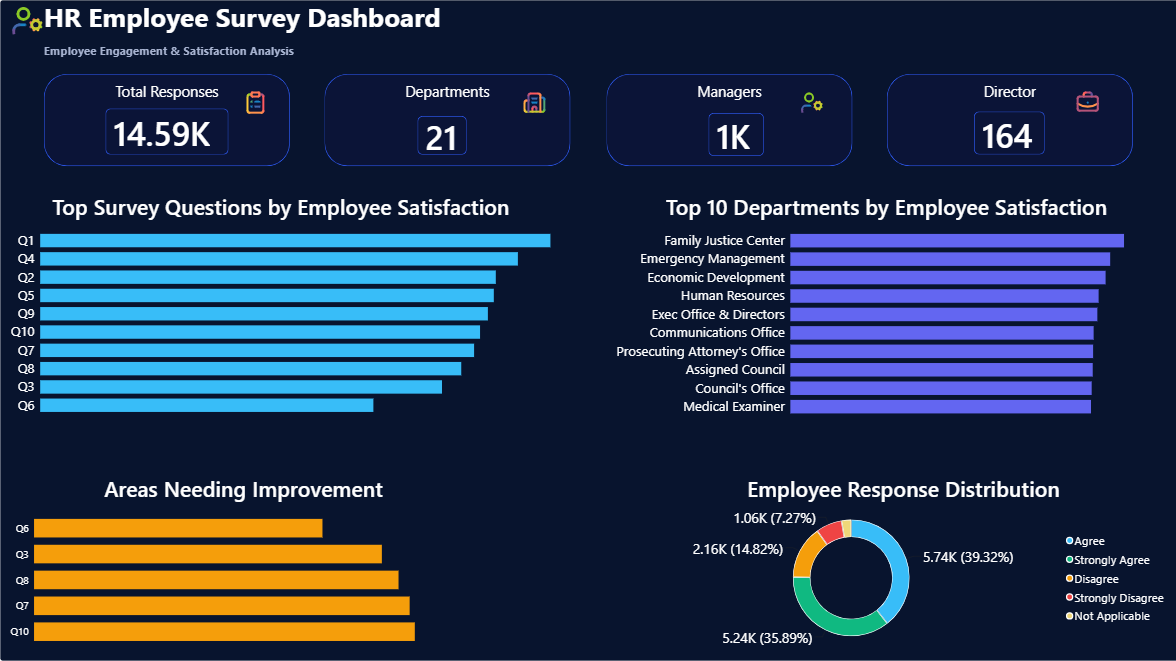

This screenshot's page, from the dashboard's own definition file:
{"tool":"powerbi","page":{"name":"Page 1","canvas":[1920,1080],"ordinal":0},"visuals":[{"type":"textbox","box":[72.5,0,650,142.5],"z":0},{"type":"textbox","box":[73.2,70.8,685.6,90.3],"z":1000},{"type":"shape","box":[73.2,122,400,150],"z":3000},{"type":"shape","title":"Departments","box":[530.3,122,400,150],"z":4000},{"type":"shape","title":"Managers","box":[987.3,122,400,150],"z":5000},{"type":"shape","box":[1444.4,122,400,150],"z":6000},{"type":"cardVisual","fields":{"Data":["CountNonNull(HR Survey Reponses.Response ID)"]},"box":[173.2,178.1,200,75],"z":7000},{"type":"image","box":[375.7,148.8,83,39],"z":8000},{"type":"cardVisual","fields":{"Data":["Count(HR Survey Reponses.Department)"]},"box":[680.7,190.3,80.5,63.4],"z":9000},{"type":"image","box":[830.4,148.8,83,39],"z":10000},{"type":"cardVisual","fields":{"Data":["Sum(HR Survey Reponses.Manager)"]},"box":[1154,185.4,90.3,70.8],"z":11000},{"type":"image","box":[1285,148.8,73.2,39],"z":12000},{"type":"cardVisual","fields":{"Data":["Sum(HR Survey Reponses.Director)"]},"box":[1585.9,183,115,70],"z":13000},{"type":"image","box":[1729.8,148.8,82,39],"z":14000},{"type":"clusteredBarChart","title":"Top Survey Questions by Employee Satisfaction","fields":{"Category":["HR Survey Reponses.Question ID"],"Y":["Avg(HR Survey Reponses.Response)"]},"box":[0,300.1,917.5,400],"z":15000},{"type":"clusteredBarChart","title":"Top 10 Departments by Employee Satisfaction","fields":{"Category":["HR Survey Reponses.Department"],"Y":["Avg(HR Survey Reponses.Response)"]},"box":[965,300.1,955,402.5],"z":16000},{"type":"clusteredBarChart","title":"Areas Needing Improvement","fields":{"Category":["HR Survey Reponses.Question ID"],"Y":["Avg(HR Survey Reponses.Response)"]},"box":[0,758.8,795.4,319.6],"z":17000},{"type":"donutChart","title":"Employee Response Distribution","fields":{"Category":["HR Survey Reponses.Response Text"],"Y":["CountNonNull(HR Survey Reponses.Response ID)"]},"box":[1022.1,758.8,897.9,319.6],"z":18000},{"type":"image","box":[19.5,0,53.7,70.8],"z":18001}]}

Visuals, with their boxes in screenshot pixels (x1, y1, x2, y2), scaled from the page's 1920x1080 canvas onto the 1176x661 screenshot:
textbox: x1=44, y1=0, x2=443, y2=87
textbox: x1=45, y1=43, x2=465, y2=99
shape: x1=45, y1=75, x2=290, y2=166
"Departments" shape: x1=325, y1=75, x2=570, y2=166
"Managers" shape: x1=605, y1=75, x2=850, y2=166
shape: x1=885, y1=75, x2=1130, y2=166
cardVisual - CountNonNull(HR Survey Reponses.Response ID): x1=106, y1=109, x2=229, y2=155
image: x1=230, y1=91, x2=281, y2=115
cardVisual - Count(HR Survey Reponses.Department): x1=417, y1=116, x2=466, y2=155
image: x1=509, y1=91, x2=559, y2=115
cardVisual - Sum(HR Survey Reponses.Manager): x1=707, y1=113, x2=762, y2=157
image: x1=787, y1=91, x2=832, y2=115
cardVisual - Sum(HR Survey Reponses.Director): x1=971, y1=112, x2=1042, y2=155
image: x1=1060, y1=91, x2=1110, y2=115
"Top Survey Questions by Employee Satisfaction" clusteredBarChart: x1=0, y1=184, x2=562, y2=428
"Top 10 Departments by Employee Satisfaction" clusteredBarChart: x1=591, y1=184, x2=1175, y2=430
"Areas Needing Improvement" clusteredBarChart: x1=0, y1=464, x2=487, y2=660
"Employee Response Distribution" donutChart: x1=626, y1=464, x2=1175, y2=660
image: x1=12, y1=0, x2=45, y2=43
